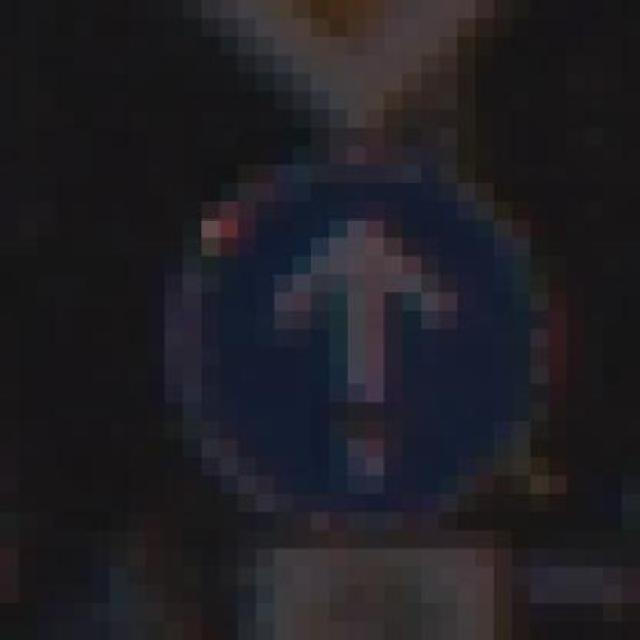Straight Ahead Only: (128, 128, 568, 530)
